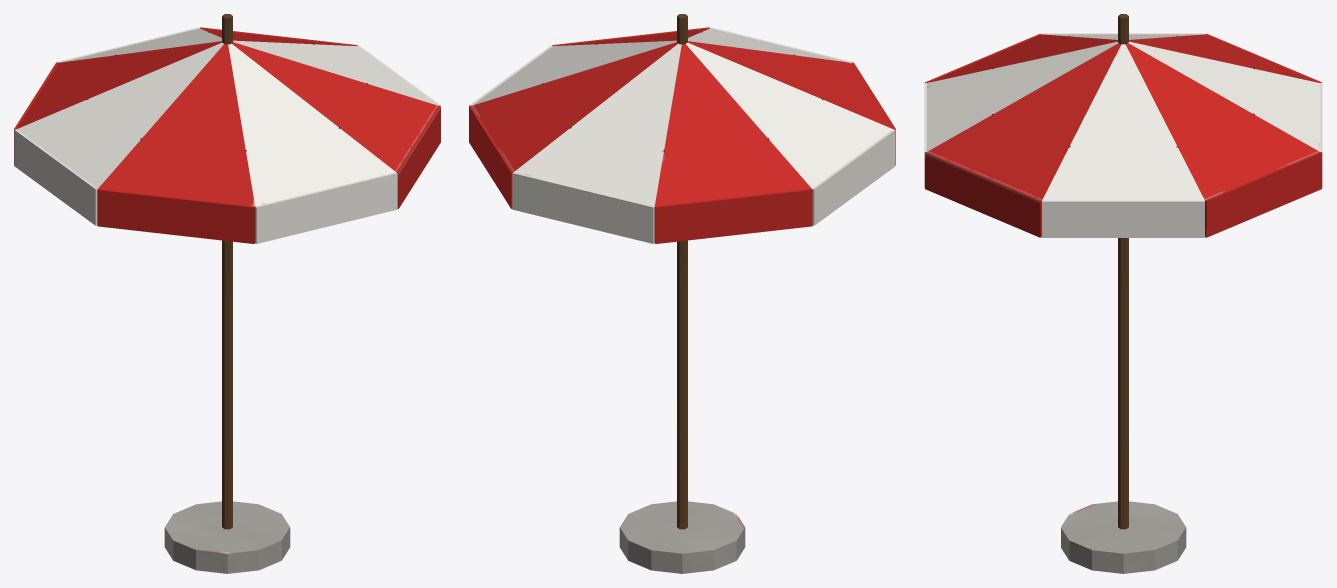
File: slunecnik_d1498d43.glb
The picture shows the model from 3 angles, left to right: view 1: azimuth 30°, elevation 25°; view 2: azimuth 150°, elevation 25°; view 3: azimuth 270°, elevation 25°; orthographic projection.
Parts seen in each view (by area): view 1: dum; view 2: dum; view 3: dum.
Boxes of the visible parts, box(x1,y1,x2,y2) form: dum: box(14, 14, 440, 573); dum: box(469, 14, 895, 573); dum: box(924, 14, 1322, 573).
Bounding box in the file's own units: 1.77 × 2.61 × 1.77.
Materials: 1 (1 with a texture image).
